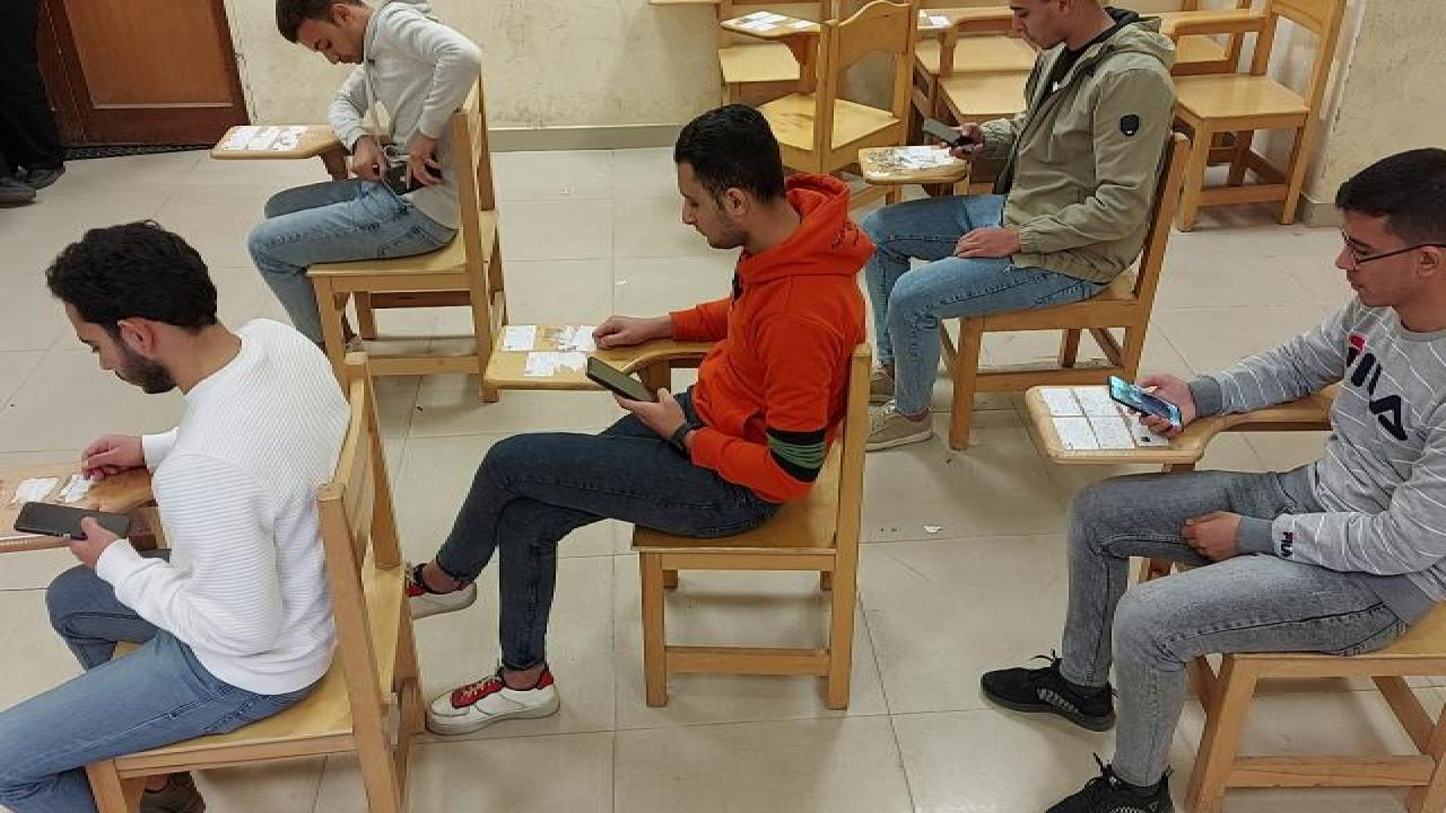phone: (14, 497, 133, 545), (1104, 369, 1190, 426), (585, 356, 667, 405), (921, 116, 977, 154), (385, 162, 442, 193)
